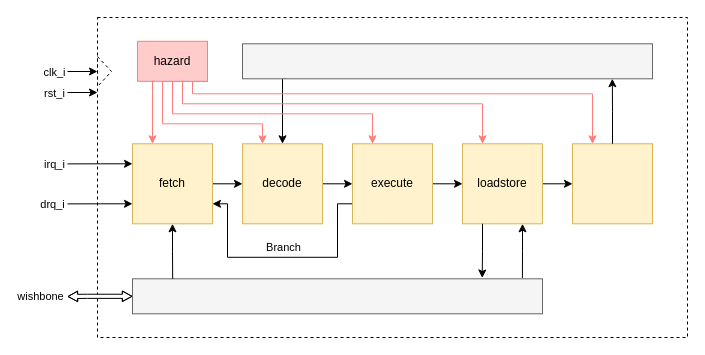
Image size: 705x355. Some labels were removed from this diagram. Here are the shapes that lost their labels. From the top down, the centre of each, then its label:
At (x=447, y=61): "regs".
At (x=612, y=183): "writeback".
At (x=337, y=296): "memory".
